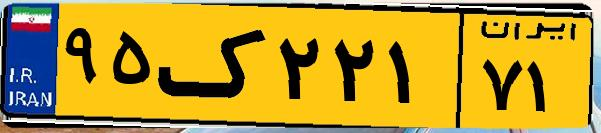1: (385, 28, 445, 110), (525, 38, 570, 115)
2: (270, 28, 330, 110), (330, 28, 385, 110)
5: (110, 28, 158, 98)
7: (475, 38, 525, 113)
9: (57, 26, 110, 100)
ک: (158, 12, 270, 120)
